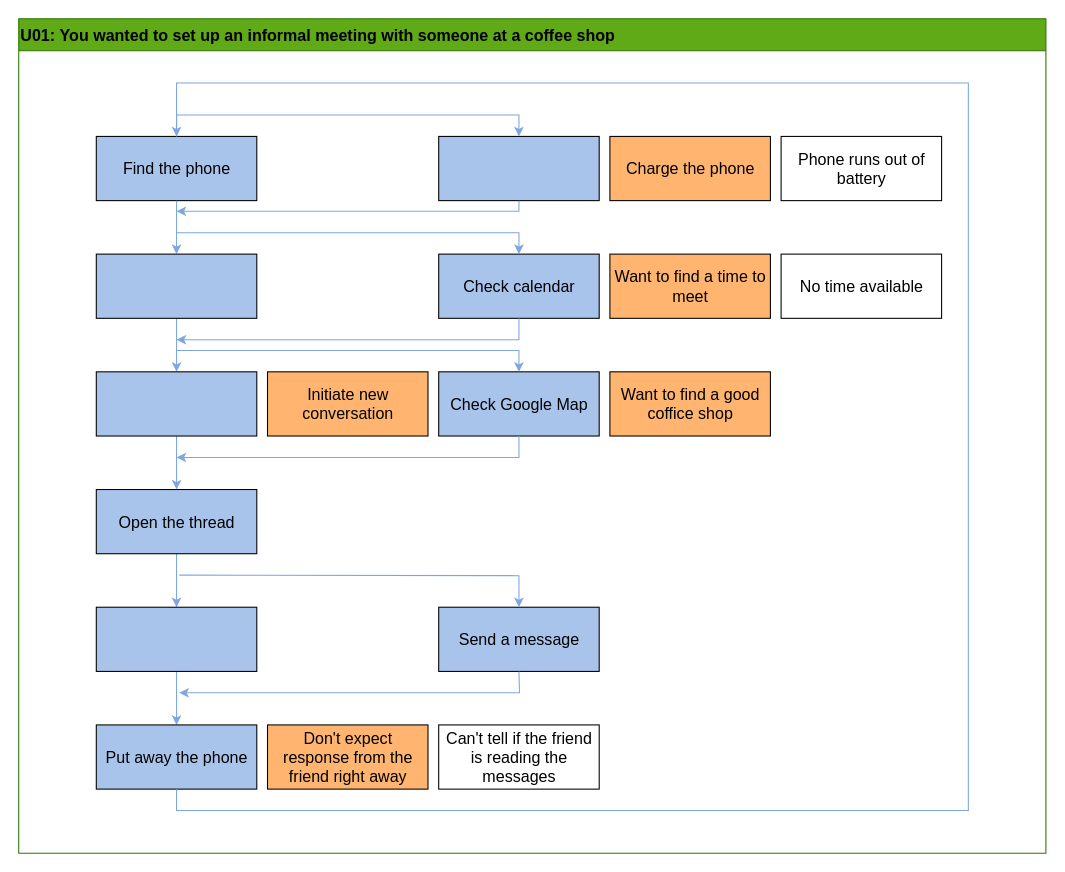
Image size: 1065x872. Some labels were removed from this diagram. The box of each missing label's shape, as (x1, y1, x2, y2) in pixels:
Create new thread with this person: (95, 371, 257, 436)
Locate and open WhatsApp: (95, 253, 257, 318)
Locate the phone charger: (438, 135, 599, 201)
Type the message: (95, 606, 257, 671)
